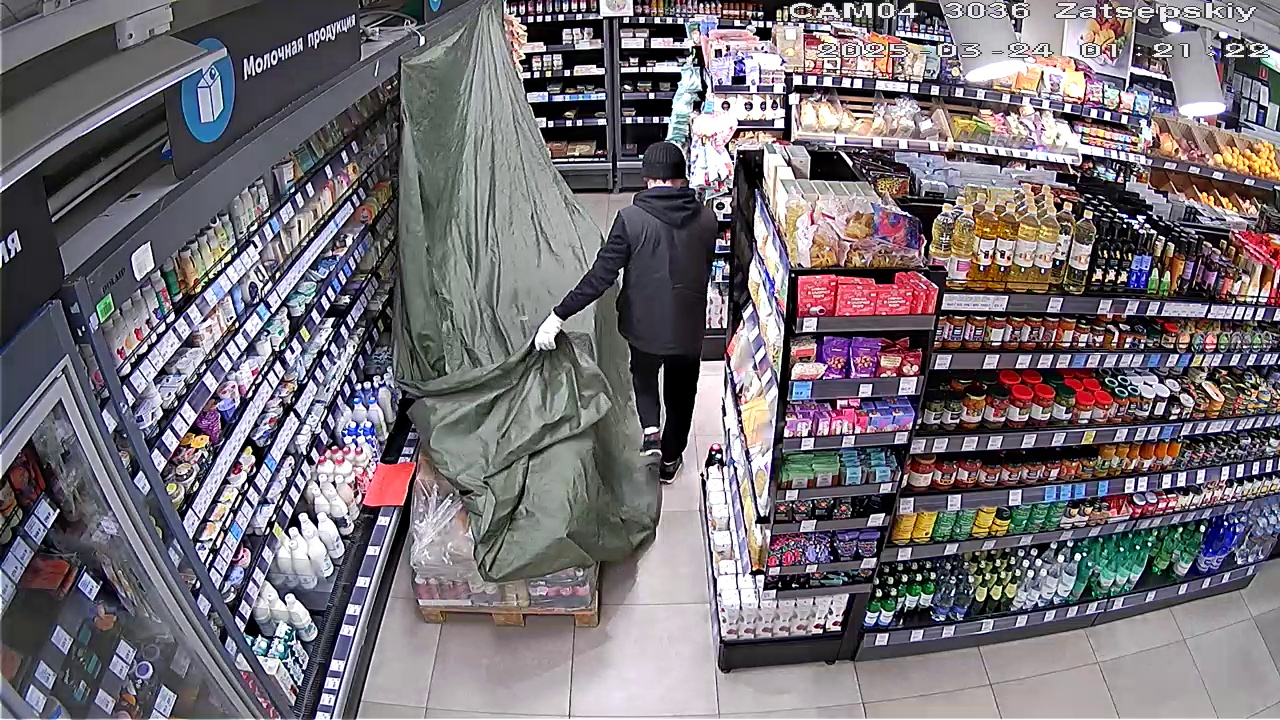Human: (537, 131, 710, 469)
dome: (397, 22, 632, 566)
